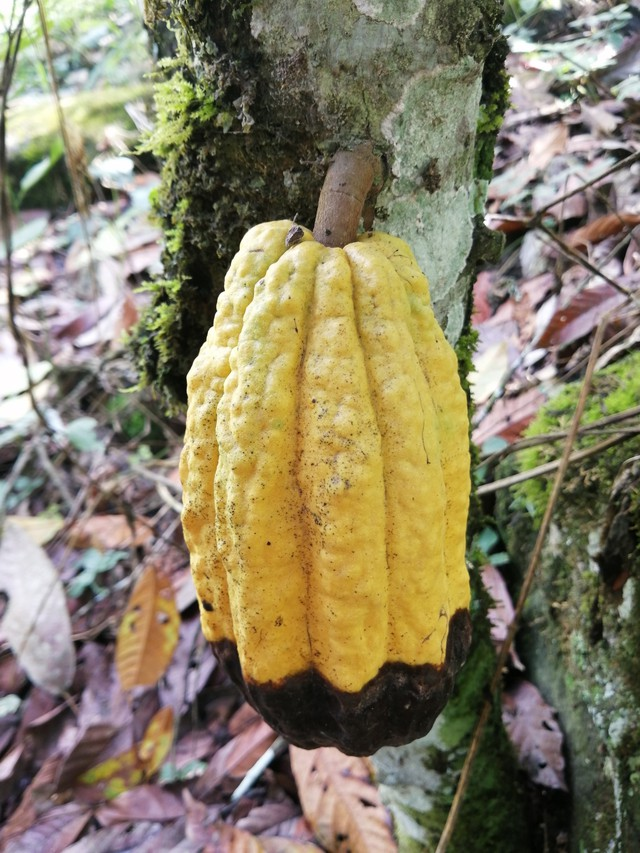phytophthora palmivora: (165, 205, 493, 763)
